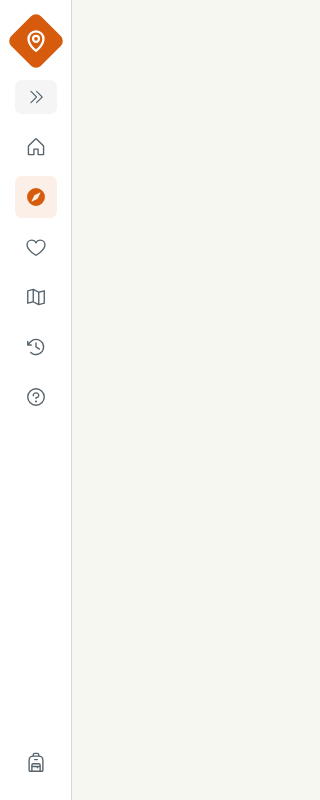
Test: ExploreSidebar › marca a página atual e lembra se o menu foi expandido
Click the button named "Expandir menu": (36, 97) [14,80,56,114]
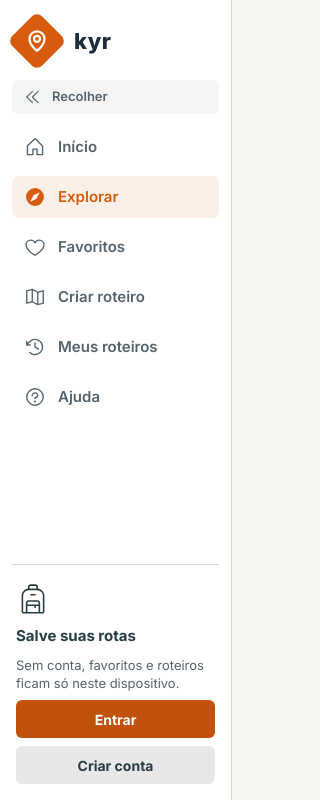
Check: the button with aria-label "Recolher menu" is expanded, box [12,80,219,114]
